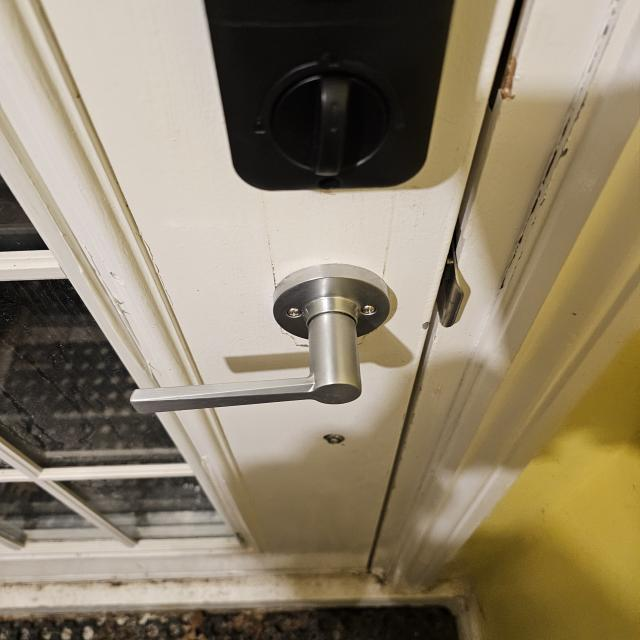door-handle: (131, 264, 390, 412)
